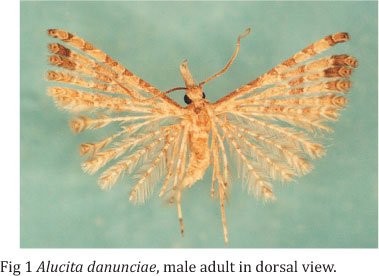Alucitidae: (41, 26, 356, 247)
moth: (39, 24, 358, 242)
